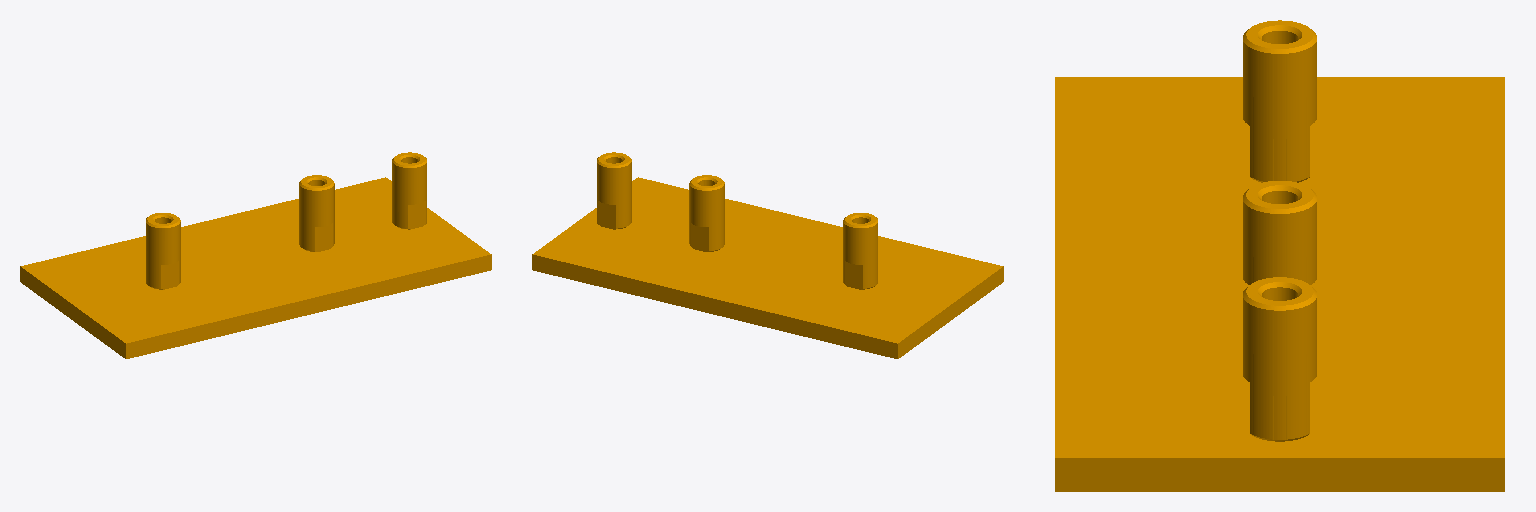
The robot description file, URDF, robot "factory_gear_base_tight":
<?xml version="1.0"?>
<robot name="factory_gear_base_tight">
    <link name="factory_gear_base_tight">
        <visual>
            <geometry>
                <mesh filename="../mesh/factory_gears/factory_gear_base_tight_space_5e-4_subdiv_4x.obj"/>
            </geometry>
        </visual>
        <collision>
            <geometry>
                <mesh filename="../mesh/factory_gears/factory_gear_base_tight_space_5e-4_subdiv_4x.obj"/>
            </geometry>
            <sdf resolution="256"/>
        </collision>
    </link>
</robot>

--- Render facts (derived) ---
3 views of the same robot in one strip: view 1: azimuth 30°, elevation 25°; view 2: azimuth 150°, elevation 25°; view 3: azimuth 270°, elevation 25° (orthographic).
Model factory_gear_base_tight with 1 links and 0 joints (none), rooted at factory_gear_base_tight, posed every joint at zero.
Links seen in each view (by area): view 1: factory_gear_base_tight; view 2: factory_gear_base_tight; view 3: factory_gear_base_tight.
Link boxes in pixels (box(x1,y1,x2,y2)): factory_gear_base_tight: box(20, 152, 491, 358); factory_gear_base_tight: box(532, 152, 1003, 358); factory_gear_base_tight: box(1055, 20, 1504, 491).
Bounding box of the posed robot: 0.12 × 0.06 × 0.025 m (x, y, z).
1 mesh visuals loaded from 1 distinct referenced files (1 OBJ).